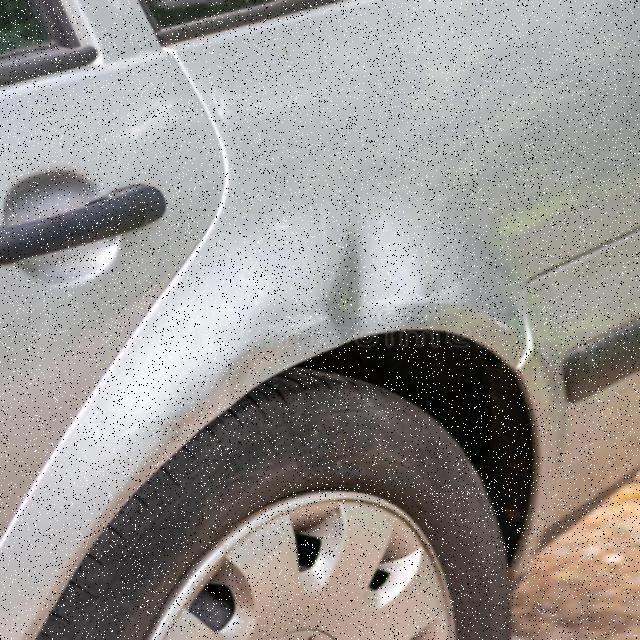quaterpanel-dent: (151, 7, 628, 488)
